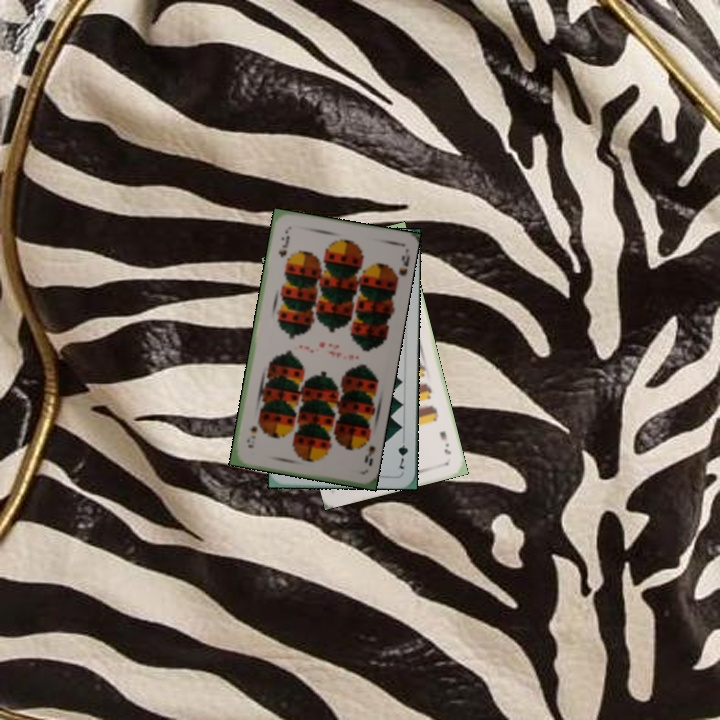E7: (436, 427, 453, 457)
G7: (394, 432, 411, 471)
S9: (358, 431, 378, 469), (274, 225, 292, 259)
